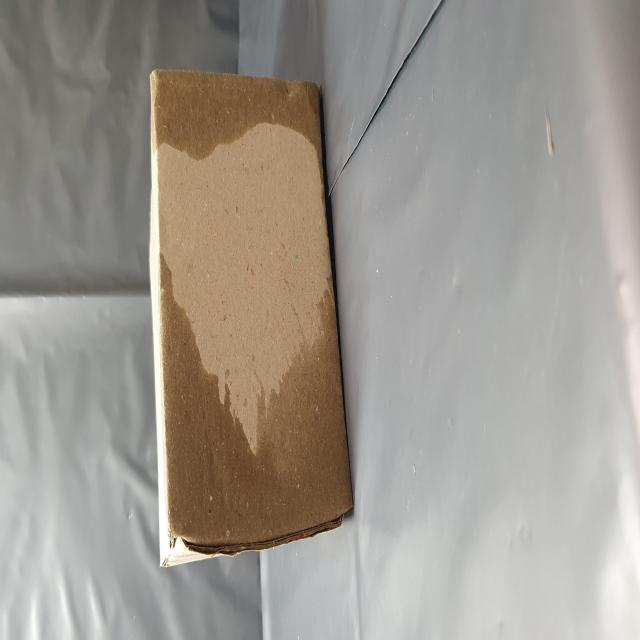wet: (50, 264, 322, 624)
